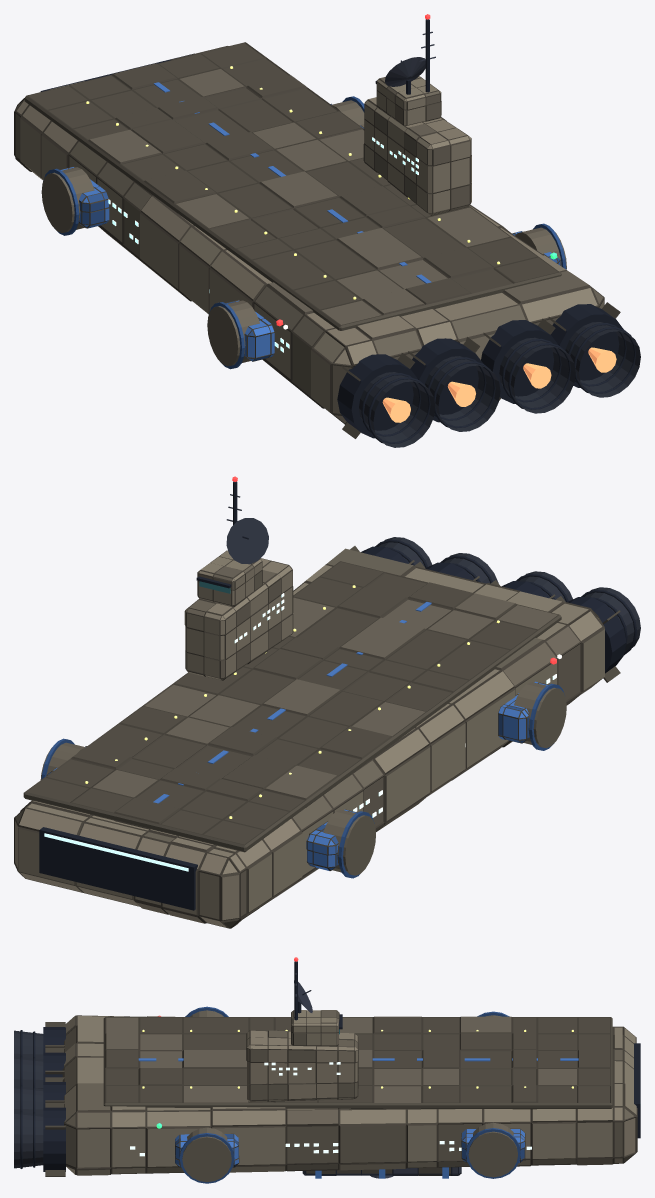
File: ark.glb
The picture shows the model from 3 angles, top to bottom: view 1: azimuth 30°, elevation 25°; view 2: azimuth 150°, elevation 25°; view 3: azimuth 270°, elevation 25°; orthographic projection. The views are drawn at different scales.
Parts seen in each view (by area): view 1: ark_mesh, radar_mesh; view 2: ark_mesh, radar_mesh; view 3: ark_mesh.
Boxes of the visible parts, x1,y1,x2,y2 form: ark_mesh: (14, 19, 640, 447); radar_mesh: (385, 57, 425, 94); ark_mesh: (14, 481, 640, 928); radar_mesh: (226, 518, 268, 564); ark_mesh: (14, 961, 640, 1183).
Size of the model in its own units: 19.2 by 17.56 by 39.42.
